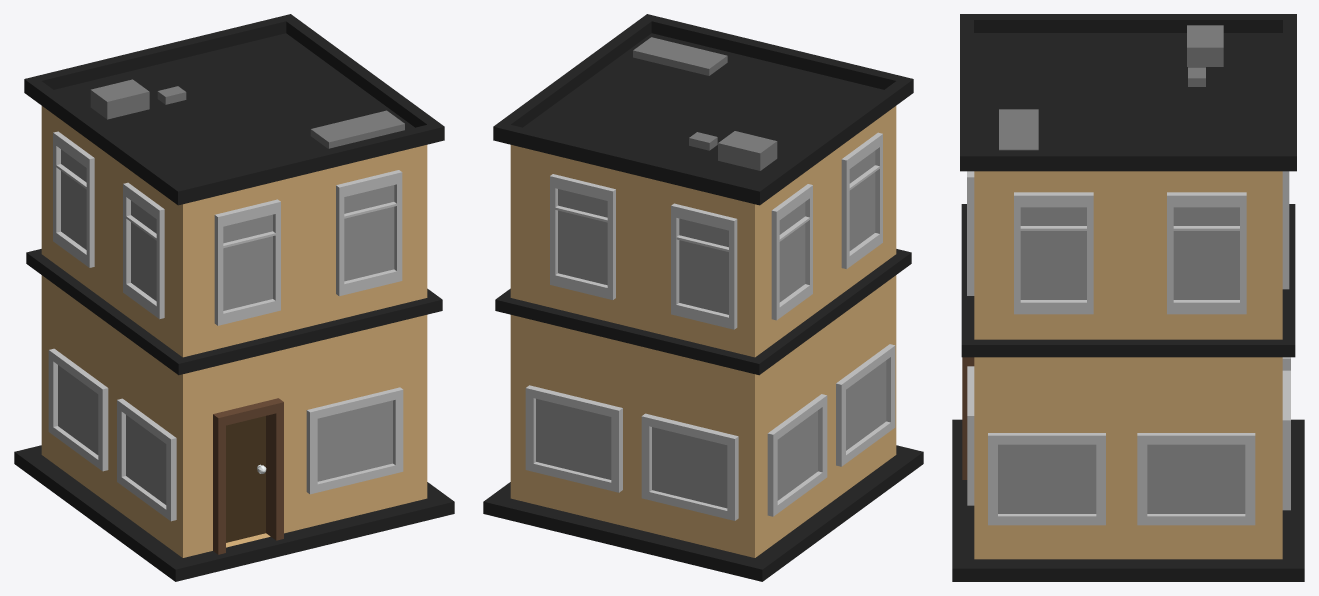
Rendered from buildings6.fbx.
3 renders of one model, left to right at view 1: azimuth 30°, elevation 25°; view 2: azimuth 150°, elevation 25°; view 3: azimuth 270°, elevation 25°, orthographic. The views are drawn at different scales.
Parts seen in each view (by area): view 1: Cube; view 2: Cube; view 3: Cube.
Part boxes in pixels (bbox=[...]): Cube: bbox=[14, 14, 454, 581]; Cube: bbox=[483, 14, 923, 581]; Cube: bbox=[952, 14, 1304, 581].
Size of the model in its own units: 597 by 802 by 597.
